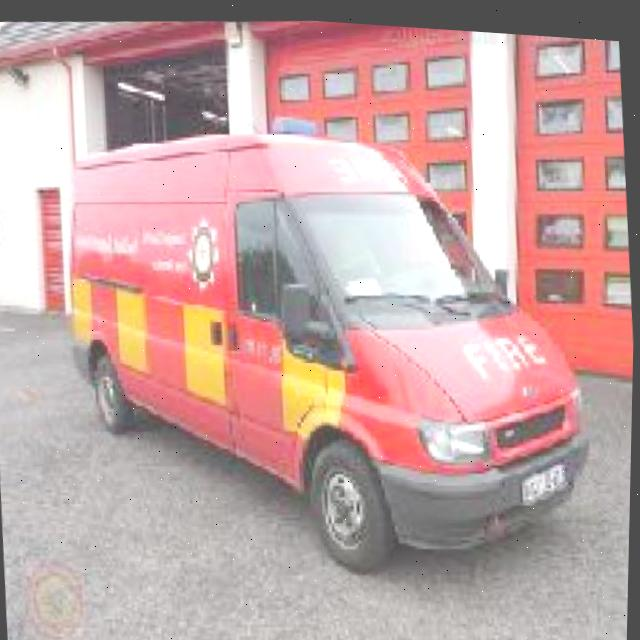emergency: (48, 94, 608, 601)
